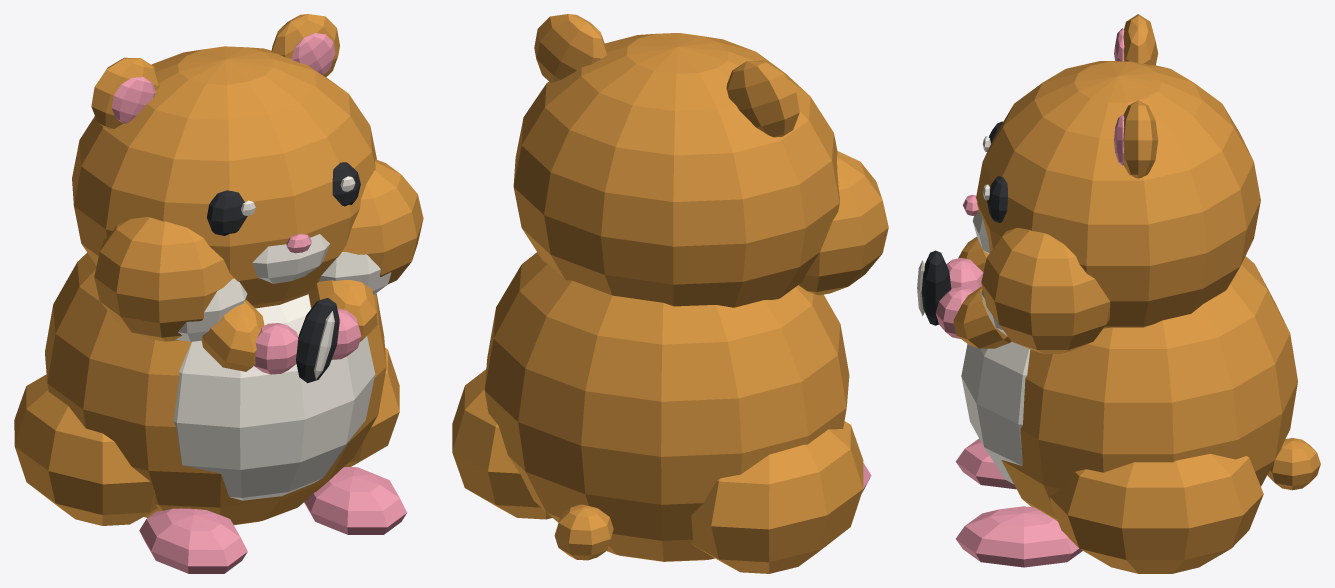
Rendered from chunky-seed-hamster.glb.
3 views of the same model, side by side, from view 1: azimuth 30°, elevation 25°; view 2: azimuth 150°, elevation 25°; view 3: azimuth 270°, elevation 25° (orthographic). The views are drawn at different scales.
Parts seen in each view (by area): view 1: Hamster; view 2: Hamster; view 3: Hamster.
Part boxes in pixels (<box>): Hamster: <box>14,14,423,573</box>; Hamster: <box>452,14,888,573</box>; Hamster: <box>917,14,1320,573</box>.
Size of the model in its own units: 1.46 by 1.8 by 1.46.
